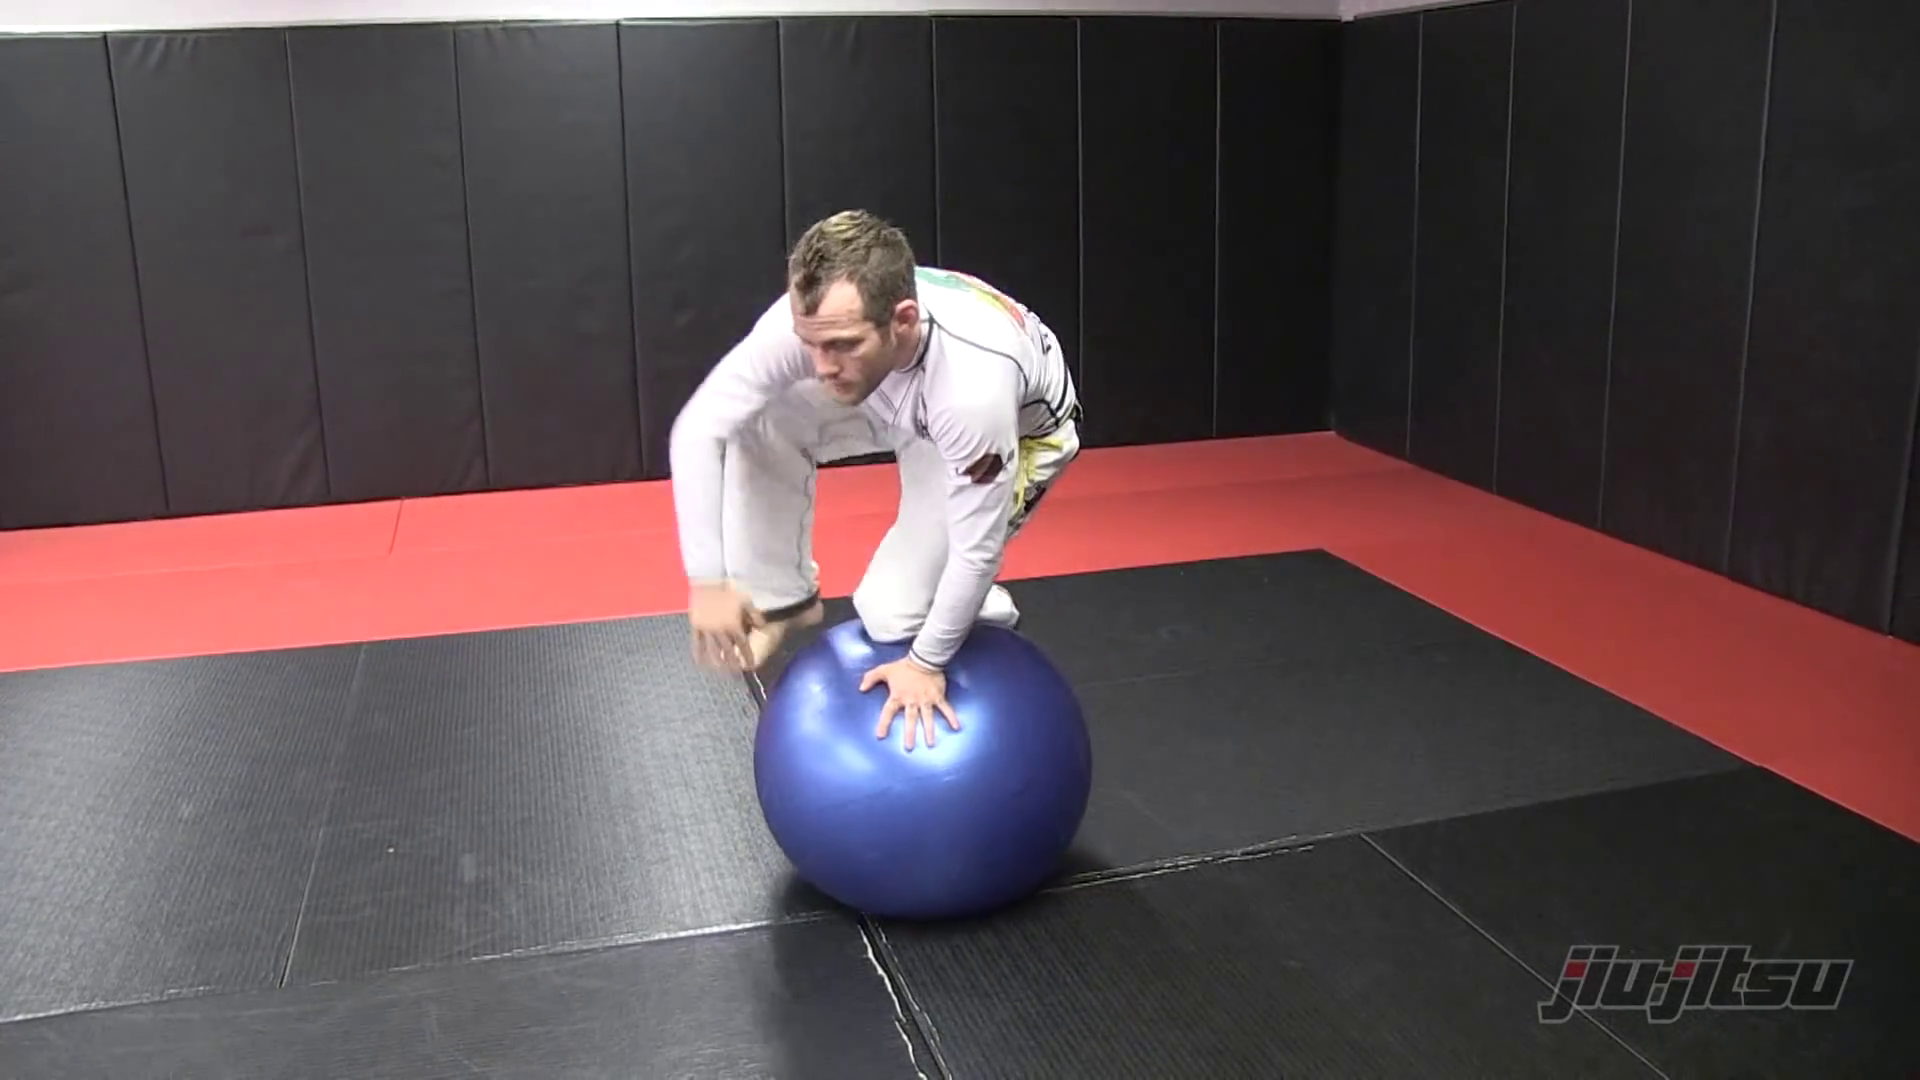yogaball: (731, 608, 1141, 935)
